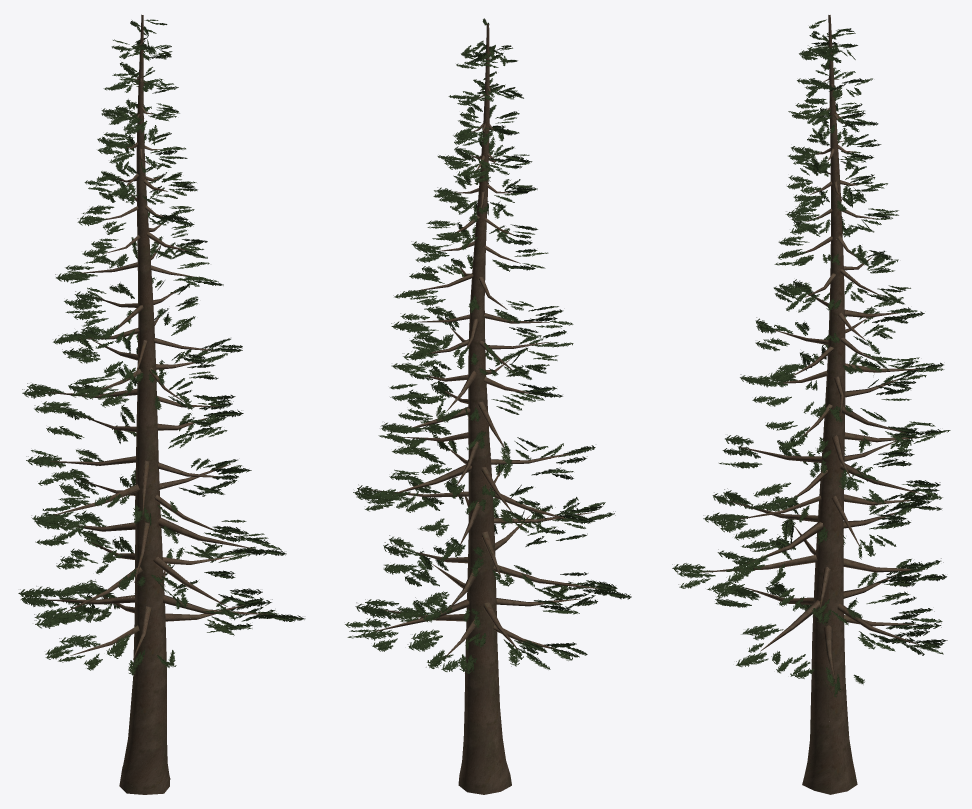
Rendered from pine_tree_002_a_LOD2.gltf.
The picture shows the model from 3 angles, left to right: view 1: azimuth 30°, elevation 25°; view 2: azimuth 150°, elevation 25°; view 3: azimuth 270°, elevation 25°; orthographic projection.
Parts seen in each view (by area): view 1: pine_tree_002_a_LOD2; view 2: pine_tree_002_a_LOD2; view 3: pine_tree_002_a_LOD2.
Part boxes in pixels (box(x1,y1,x2,y2)): pine_tree_002_a_LOD2: box(18, 14, 305, 794); pine_tree_002_a_LOD2: box(345, 18, 631, 794); pine_tree_002_a_LOD2: box(672, 15, 950, 794).
Size of the model in its own units: 8.11 by 22.59 by 7.69.
2 materials, 2 textured.
